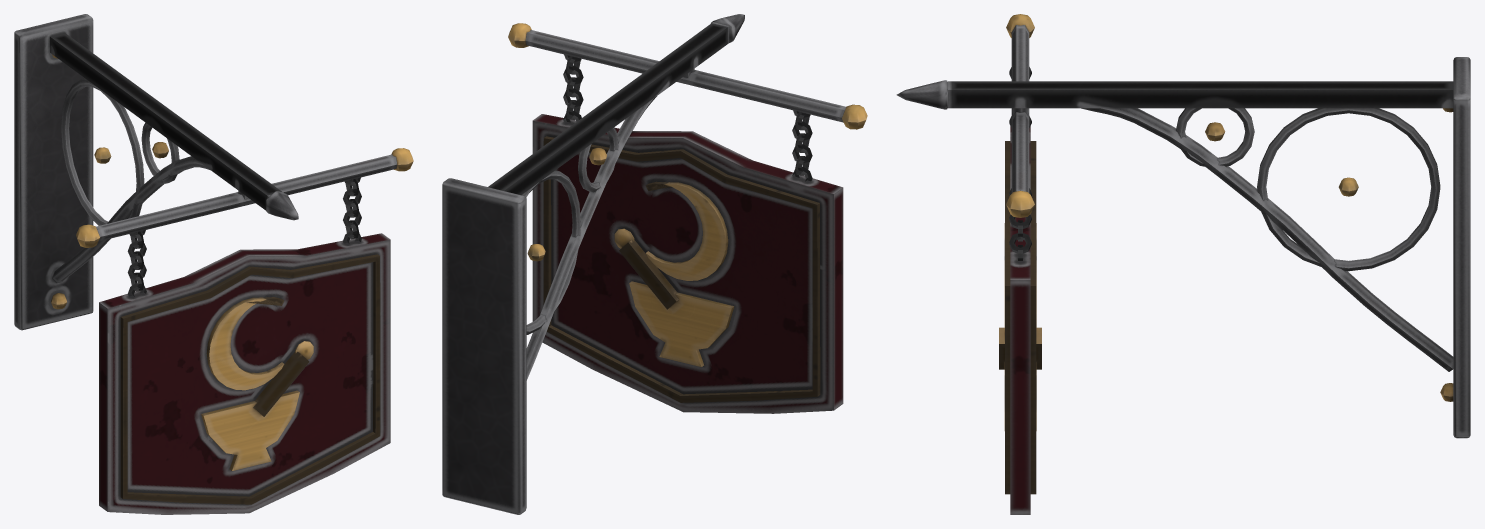
File: HangingSign.fbx
3 renders of one model, left to right at view 1: azimuth 30°, elevation 25°; view 2: azimuth 150°, elevation 25°; view 3: azimuth 270°, elevation 25°, orthographic. The views are drawn at different scales.
Visible parts, largest first — view 1: HangingSign_Cloth, HangingSign_Main; view 2: HangingSign_Cloth, HangingSign_Main; view 3: HangingSign_Main, HangingSign_Cloth.
Part boxes in pixels (left/top/right/bottom): HangingSign_Cloth: left=99, top=177, right=390, bottom=514; HangingSign_Main: left=14, top=14, right=413, bottom=330; HangingSign_Cloth: left=532, top=54, right=843, bottom=413; HangingSign_Main: left=442, top=14, right=867, bottom=514; HangingSign_Main: left=896, top=14, right=1470, bottom=438; HangingSign_Cloth: left=999, top=67, right=1041, bottom=514.
Size of the model in its own units: 154 by 152 by 198.
